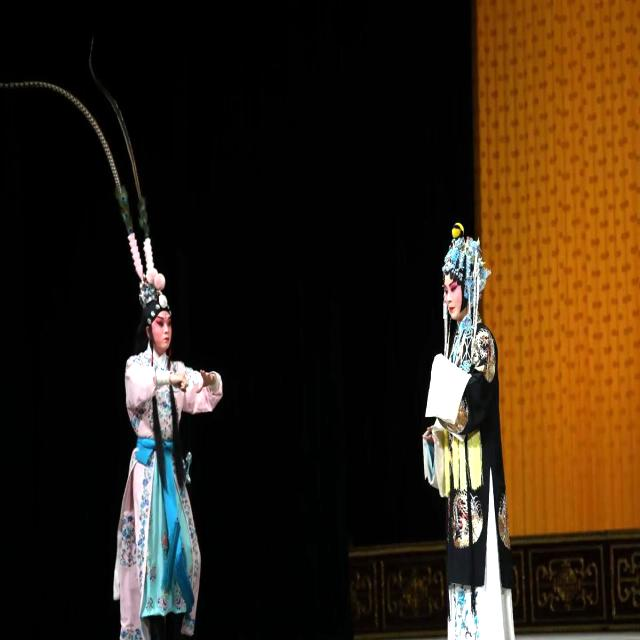Reeves-s Pheasant: (0, 81, 133, 234), (105, 92, 149, 238), (89, 56, 103, 91)
